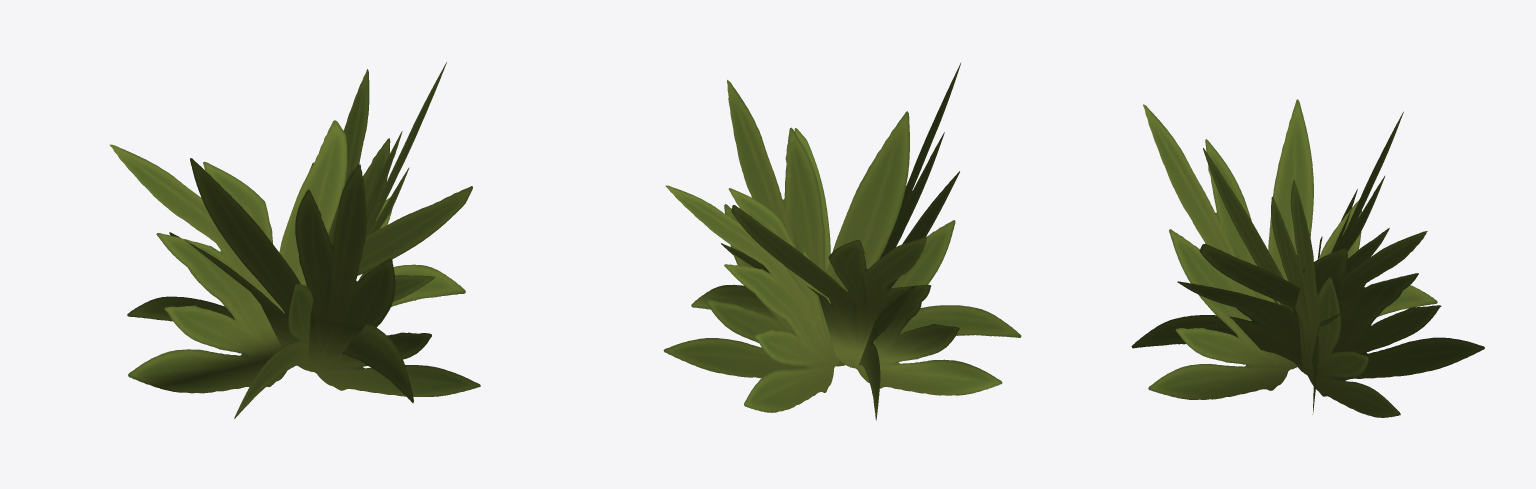
Rendered from Shrub-1.FBX.
3 views of the same model, side by side, from view 1: azimuth 30°, elevation 25°; view 2: azimuth 150°, elevation 25°; view 3: azimuth 270°, elevation 25° (orthographic). The views are drawn at different scales.
Visible parts, largest first — view 1: Shrub-1; view 2: Shrub-1; view 3: Shrub-1.
Boxes of the visible parts, x1=… form: Shrub-1: x1=109, y1=62, x2=480, y2=418; Shrub-1: x1=663, y1=63, x2=1021, y2=420; Shrub-1: x1=1131, y1=99, x2=1484, y2=417.
Size of the model in its own units: 38.06 by 26.86 by 38.06.
